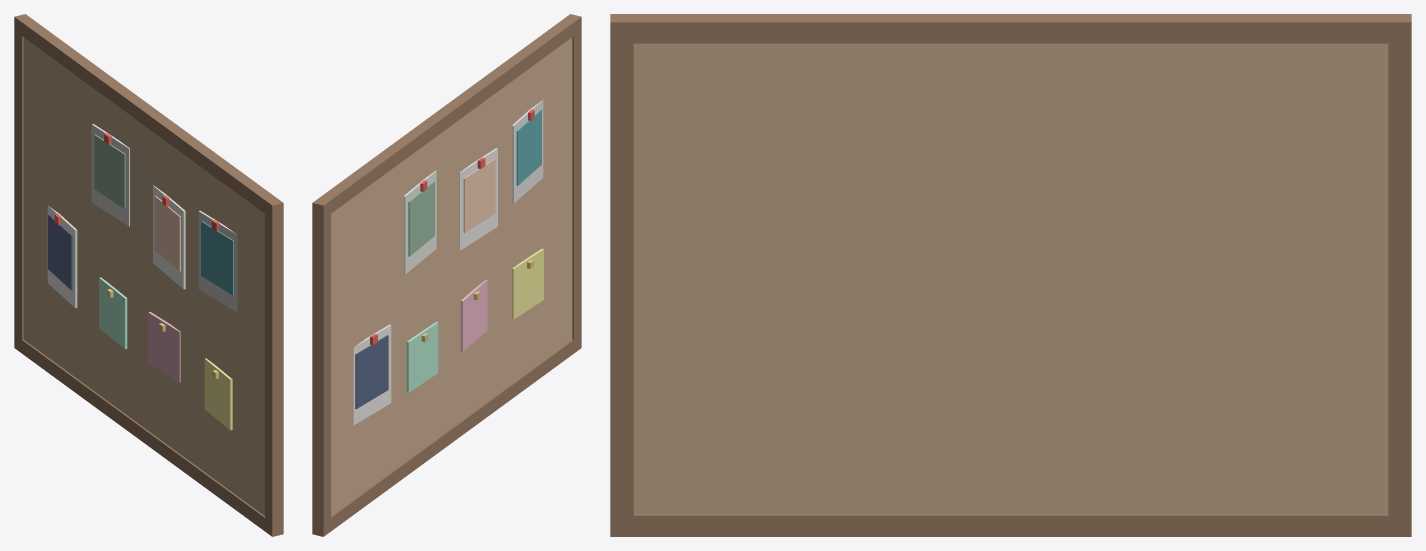
File: Cork_Bulletin_Board.glb
The picture shows the model from 3 angles, left to right: view 1: azimuth 30°, elevation 25°; view 2: azimuth 150°, elevation 25°; view 3: azimuth 270°, elevation 25°; orthographic projection. The views are drawn at different scales.
Visible parts, largest first — view 1: Cork_Bulletin_Board; view 2: Cork_Bulletin_Board; view 3: Cork_Bulletin_Board.
Part boxes in pixels (x1,y1,x2,y2): Cork_Bulletin_Board: (14, 14, 283, 536); Cork_Bulletin_Board: (312, 14, 581, 536); Cork_Bulletin_Board: (610, 14, 1411, 536).
Bounding box in the file's own units: 0.0438 × 0.85 × 1.2.
